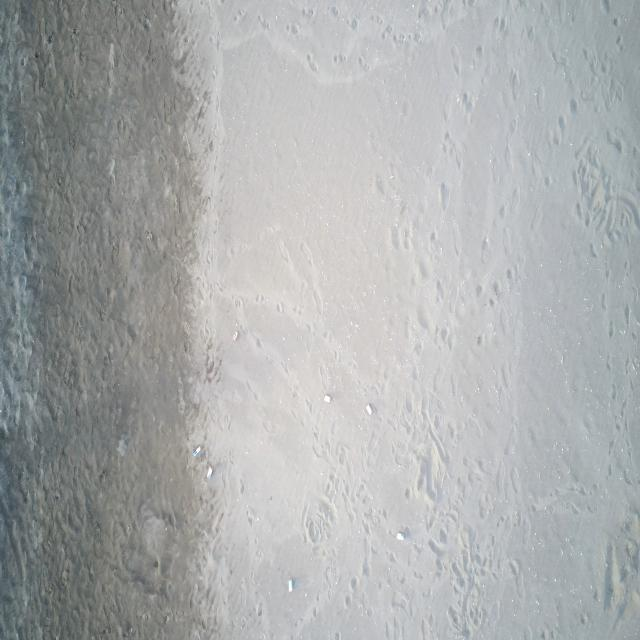Garbage: (396, 527, 407, 540), (364, 403, 372, 415), (206, 465, 212, 479), (395, 531, 404, 540), (323, 393, 331, 403), (193, 446, 201, 456), (288, 577, 293, 592), (232, 329, 238, 340)
